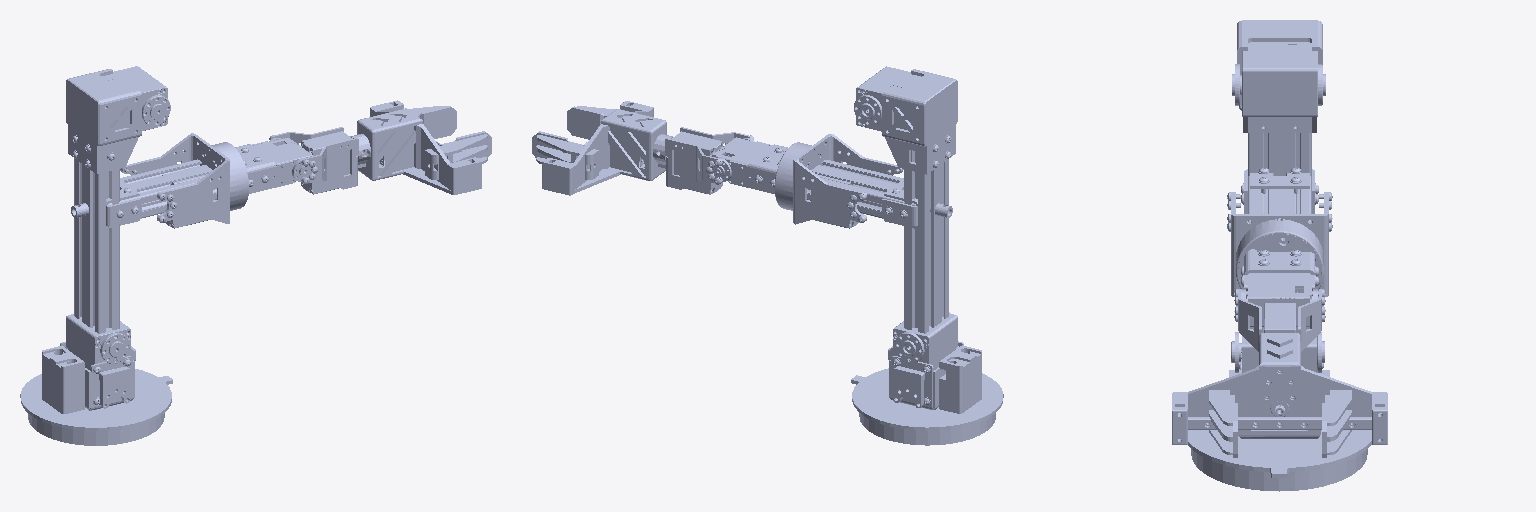
URDF robot description (viola_description):
<?xml version="1.0" encoding="utf-8"?>
<!-- This URDF was automatically created by SolidWorks to URDF Exporter! Originally created by Stephen Brawner (brawner@gmail.com) 
     Commit Version: 1.6.0-4-g7f85cfe  Build Version: 1.6.7995.38578
     For more information, please see http://wiki.ros.org/sw_urdf_exporter -->
<robot
  name="viola_description">
  <!-- 添加虚拟根链接 -->
  <link name="world"/>

  <!-- 添加固定关节 -->
  <joint name="world_to_base" type="fixed">
    <parent link="world"/>
    <child link="base_link"/>
    <origin xyz="0 0 0" rpy="0 0 0"/>
  </joint>
  <link
    name="base_link">
    <inertial>
      <origin
        xyz="-0.0366024394257429 1.02674519677641E-07 0.015277317384285"
        rpy="0 0 0" />
      <mass
        value="0.342452235959815" />
      <inertia
        ixx="0.000285382548760403"
        ixy="6.67655658012279E-10"
        ixz="-2.22357066672083E-05"
        iyy="0.000799966228039242"
        iyz="-1.84525454237363E-10"
        izz="0.000968790303235944" />
    </inertial>
    <visual>
      <origin
        xyz="0 0 0"
        rpy="0 0 0" />
      <geometry>
        <mesh
          filename="package://viola_description/meshes/base_link.STL" />
      </geometry>
      <material
        name="">
        <color
          rgba="0.792156862745098 0.819607843137255 0.933333333333333 1" />
      </material>
    </visual>
    <collision>
      <origin
        xyz="0 0 0"
        rpy="0 0 0" />
      <geometry>
        <mesh
          filename="package://viola_description/meshes/base_link.STL" />
      </geometry>
    </collision>
  </link>
  <link
    name="link1">
    <inertial>
      <origin
        xyz="0.00945929848513673 -1.34956793715097E-05 0.0125260726596105"
        rpy="0 0 0" />
      <mass
        value="0.0144992701953334" />
      <inertia
        ixx="2.20206728759526E-06"
        ixy="-3.39221832582805E-09"
        ixz="-2.3292146278621E-07"
        iyy="3.15721267641349E-06"
        iyz="-1.36887296762194E-11"
        izz="3.90207130365304E-06" />
    </inertial>
    <visual>
      <origin
        xyz="0 0 0"
        rpy="0 0 0" />
      <geometry>
        <mesh
          filename="package://viola_description/meshes/link1.STL" />
      </geometry>
      <material
        name="">
        <color
          rgba="0.792156862745098 0.819607843137255 0.933333333333333 1" />
      </material>
    </visual>
    <collision>
      <origin
        xyz="0 0 0"
        rpy="0 0 0" />
      <geometry>
        <mesh
          filename="package://viola_description/meshes/link1.STL" />
      </geometry>
    </collision>
  </link>
  <joint
    name="joint1"
    type="revolute">
    <origin
      xyz="0 0 0.0657499999998377"
      rpy="0 0 0" />
    <parent
      link="base_link" />
    <child
      link="link1" />
    <axis
      xyz="7.60456271565632E-05 0 -0.999999997108531" />
    <limit
      lower="-2.27"
      upper="2.27"
      effort="100"
      velocity="1" />
  </joint>
  <link
    name="link2">
    <inertial>
      <origin
        xyz="0.114964625129059 -0.00467704143791724 4.16290445967295E-05"
        rpy="0 0 0" />
      <mass
        value="0.0987772903768165" />
      <inertia
        ixx="2.1184876229622E-05"
        ixy="5.53852374713765E-06"
        ixz="-2.84045610394423E-07"
        iyy="0.000167624486496214"
        iyz="1.15621876795967E-07"
        izz="0.00016002189146611" />
    </inertial>
    <visual>
      <origin
        xyz="0 0 0"
        rpy="0 0 0" />
      <geometry>
        <mesh
          filename="package://viola_description/meshes/link2.STL" />
      </geometry>
      <material
        name="">
        <color
          rgba="0.792156862745098 0.819607843137255 0.933333333333333 1" />
      </material>
    </visual>
    <collision>
      <origin
        xyz="0 0 0"
        rpy="0 0 0" />
      <geometry>
        <mesh
          filename="package://viola_description/meshes/link2.STL" />
      </geometry>
    </collision>
  </link>
  <joint
    name="joint2"
    type="revolute">
    <origin
      xyz="0.000816389136979258 0 0.0178942036719373"
      rpy="1.57079665385624 -1.5707963267949 0" />
    <parent
      link="link1" />
    <child
      link="link2" />
    <axis
      xyz="0 0 -0.999999999999946" />
    <limit
      lower="-1.57"
      upper="1.57"
      effort="100"
      velocity="1" />
  </joint>
  <link
    name="link3">
    <inertial>
      <origin
        xyz="0.0307420220015525 -0.0080225139682279 5.97955914480572E-05"
        rpy="0 0 0" />
      <mass
        value="0.0176734436095054" />
      <inertia
        ixx="4.78311450026527E-06"
        ixy="7.02946410418116E-07"
        ixz="9.46781860288867E-15"
        iyy="4.570596511692E-06"
        iyz="-4.73223323817479E-13"
        izz="4.83080271569652E-06" />
    </inertial>
    <visual>
      <origin
        xyz="0 0 0"
        rpy="0 0 0" />
      <geometry>
        <mesh
          filename="package://viola_description/meshes/link3.STL" />
      </geometry>
      <material
        name="">
        <color
          rgba="0.792156862745098 0.819607843137255 0.933333333333333 1" />
      </material>
    </visual>
    <collision>
      <origin
        xyz="0 0 0"
        rpy="0 0 0" />
      <geometry>
        <mesh
          filename="package://viola_description/meshes/link3.STL" />
      </geometry>
    </collision>
  </link>
  <joint
    name="joint3"
    type="revolute">
    <origin
      xyz="0.162199430665324 -0.0426767500837757 0"
      rpy="0 0 -1.5707963267949" />
    <parent
      link="link2" />
    <child
      link="link3" />
    <axis
      xyz="0 0 -1" />
    <limit
      lower="-1.57"
      upper="1.57"
      effort="100"
      velocity="1" />
  </joint>
  <link
    name="link4">
    <inertial>
      <origin
        xyz="-3.73429810663628E-05 -3.34353484130843E-05 -0.0394023804743517"
        rpy="0 0 0" />
      <mass
        value="0.0317772689370715" />
      <inertia
        ixx="5.52051400613132E-06"
        ixy="6.70142362355472E-12"
        ixz="-8.04404621260023E-09"
        iyy="4.24695643927686E-06"
        iyz="-3.3926498965048E-09"
        izz="5.04711704401761E-06" />
    </inertial>
    <visual>
      <origin
        xyz="0 0 0"
        rpy="0 0 0" />
      <geometry>
        <mesh
          filename="package://viola_description/meshes/link4.STL" />
      </geometry>
      <material
        name="">
        <color
          rgba="0.792156862745098 0.819607843137255 0.933333333333333 1" />
      </material>
    </visual>
    <collision>
      <origin
        xyz="0 0 0"
        rpy="0 0 0" />
      <geometry>
        <mesh
          filename="package://viola_description/meshes/link4.STL" />
      </geometry>
    </collision>
  </link>
  <joint
    name="joint4"
    type="revolute">
    <origin
      xyz="0.136105 -0.00132499999999894 0"
      rpy="1.5707963267949 0 1.5707963267949" />
    <parent
      link="link3" />
    <child
      link="link4" />
    <axis
      xyz="0 0 -1" />
    <limit
      lower="-2.27"
      upper="2.27"
      effort="100"
      velocity="1" />
  </joint>
  <link
    name="link5">
    <inertial>
      <origin
        xyz="-0.00907471212229996 -0.0353443496912795 -0.000249999386878841"
        rpy="0 0 0" />
      <mass
        value="0.0153420053398658" />
      <inertia
        ixx="4.51552994788011E-06"
        ixy="-6.95561719240877E-07"
        ixz="7.12586882370268E-14"
        iyy="4.67720718357925E-06"
        iyz="2.88782601757487E-14"
        izz="4.69712760711317E-06" />
    </inertial>
    <visual>
      <origin
        xyz="0 0 0"
        rpy="0 0 0" />
      <geometry>
        <mesh
          filename="package://viola_description/meshes/link5.STL" />
      </geometry>
      <material
        name="">
        <color
          rgba="0.792156862745098 0.819607843137255 0.933333333333333 1" />
      </material>
    </visual>
    <collision>
      <origin
        xyz="0 0 0"
        rpy="0 0 0" />
      <geometry>
        <mesh
          filename="package://viola_description/meshes/link5.STL" />
      </geometry>
    </collision>
  </link>
  <joint
    name="joint5"
    type="revolute">
    <origin
      xyz="0 0 0"
      rpy="-1.57079632686333 0 0" />
    <parent
      link="link4" />
    <child
      link="link5" />
    <axis
      xyz="0 0 -1" />
    <limit
      lower="-1.57"
      upper="1.57"
      effort="100"
      velocity="1" />
  </joint>
  <link
    name="link6">
    <inertial>
      <origin
        xyz="3.11451987721628E-06 0.00376646242582662 -0.0665098429300616"
        rpy="0 0 0" />
      <mass
        value="0.0525962732183853" />
      <inertia
        ixx="2.7290758390216E-05"
        ixy="-5.11417784182148E-08"
        ixz="-5.39035011630235E-08"
        iyy="8.14239091644694E-05"
        iyz="-3.75607728816935E-06"
        izz="7.02344937987567E-05" />
    </inertial>
    <visual>
      <origin
        xyz="0 0 0"
        rpy="0 0 0" />
      <geometry>
        <mesh
          filename="package://viola_description/meshes/link6.STL" />
      </geometry>
      <material
        name="">
        <color
          rgba="0.792156862745098 0.819607843137255 0.933333333333333 1" />
      </material>
    </visual>
    <collision>
      <origin
        xyz="0 0 0"
        rpy="0 0 0" />
      <geometry>
        <mesh
          filename="package://viola_description/meshes/link6.STL" />
      </geometry>
    </collision>
  </link>
  <joint
    name="joint6"
    type="revolute">
    <origin
      xyz="-0.00482250000000067 -0.170649999999999 0"
      rpy="1.5707963267949 -1.5707963267949 0" />
    <parent
      link="link5" />
    <child
      link="link6" />
    <axis
      xyz="0 0 -1" />
    <limit
      lower="-2.27"
      upper="2.27"
      effort="100"
      velocity="1" />
  </joint>
  <link name="calib_connection_link"/>
  <joint
    name="link6_to_calib_connection_joint"
    type="fixed">
    <origin
      xyz="0 -0.022 -0.054"
      rpy="0 0 0" />
    <parent
      link="link6" />
    <child
      link="calib_connection_link" />
  </joint>
  <link
    name="link7_left">
    <inertial>
      <origin
        xyz="-2.75111773632153E-05 -0.0166499696743121 0.040371259206279"
        rpy="0 0 0" />
      <mass
        value="0.0093640759491376" />
      <inertia
        ixx="1.42325173509405E-06"
        ixy="3.07744473263828E-11"
        ixz="1.54466899291748E-12"
        iyy="6.7892690386922E-07"
        iyz="2.04200398046579E-07"
        izz="1.72127779881948E-06" />
    </inertial>
    <visual>
      <origin
        xyz="0 0 0"
        rpy="0 0 0" />
      <geometry>
        <mesh
          filename="package://viola_description/meshes/link7_left.STL" />
      </geometry>
      <material
        name="">
        <color
          rgba="0.792156862745098 0.819607843137255 0.933333333333333 1" />
      </material>
    </visual>
    <collision>
      <origin
        xyz="0 0 0"
        rpy="0 0 0" />
      <geometry>
        <mesh
          filename="package://viola_description/meshes/link7_left.STL" />
      </geometry>
    </collision>
  </link>
  <joint
    name="joint7_left"
    type="prismatic">
    <origin
      xyz="0 0.0100900000000006 0"
      rpy="1.5707963267949 0 -1.5707963267949" />
    <parent
      link="link6" />
    <child
      link="link7_left" />
    <axis
      xyz="0 0 1" />
    <limit
      lower="-0.03"
      upper="0"
      effort="5"
      velocity="3.14" />
  </joint>
  <link
    name="link7_right">
    <inertial>
      <origin
        xyz="-2.75111773632708E-05 -0.0166499696743121 -0.0403212592062332"
        rpy="0 0 0" />
      <mass
        value="0.0093640759491376" />
      <inertia
        ixx="1.42325173509405E-06"
        ixy="3.07744473261268E-11"
        ixz="-1.54466899246648E-12"
        iyy="6.78926903869219E-07"
        iyz="-2.0420039804658E-07"
        izz="1.72127779881948E-06" />
    </inertial>
    <visual>
      <origin
        xyz="0 0 0"
        rpy="0 0 0" />
      <geometry>
        <mesh
          filename="package://viola_description/meshes/link7_right.STL" />
      </geometry>
      <material
        name="">
        <color
          rgba="0.792156862745098 0.819607843137255 0.933333333333333 1" />
      </material>
    </visual>
    <collision>
      <origin
        xyz="0 0 0"
        rpy="0 0 0" />
      <geometry>
        <mesh
          filename="package://viola_description/meshes/link7_right.STL" />
      </geometry>
    </collision>
  </link>
  <joint
    name="joint7_right"
    type="prismatic">
    <origin
      xyz="0 0.0100900000000006 0"
      rpy="1.5707963267949 0 -1.5707963267949" />
    <parent
      link="link6" />
    <child
      link="link7_right" />
    <axis
      xyz="0 0 -1" />
    <limit
      lower="-3.14"
      upper="3.14"
      effort="5"
      velocity="3.14" />
    <mimic joint="joint7_left" />
  </joint>
</robot>

--- What the picture shows (computed from the rendered views, not written in the file) ---
Views: 3 orthographic renders of the robot side by side, from view 1: azimuth 30°, elevation 25°; view 2: azimuth 150°, elevation 25°; view 3: azimuth 270°, elevation 25°.
Model viola_description with 11 links and 10 joints (6 revolute, 2 prismatic, 2 fixed), rooted at world, posed all joints at 0.
Links seen in each view (by area): view 1: link2, link1, link6, link3, link4, link5, link7_right, link7_left; view 2: link2, link1, link6, link4, link3, link5, link7_left, link7_right; view 3: link2, link6, link1, link4, link3, link5, link7_left, link7_right.
Link boxes in pixels (x1,y1,x2,y2): link2: (66,66,170,408); link1: (20,314,172,445); link6: (350,100,481,194); link3: (120,133,248,228); link4: (71,138,312,227); link5: (269,127,358,194); link7_right: (425,131,491,179); link7_left: (408,106,456,138); link2: (854,66,957,407); link1: (851,312,1003,445); link6: (542,101,672,195); link4: (712,137,952,228); link3: (775,134,903,228); link5: (665,127,754,194); link7_left: (532,131,598,179); link7_right: (567,106,615,139); link2: (1229,20,1329,376); link6: (1172,333,1387,444); link1: (1188,332,1371,491); link4: (1241,167,1318,326); link3: (1227,192,1332,296); link5: (1234,289,1325,351); link7_left: (1322,390,1351,457); link7_right: (1209,390,1237,457).
Size in the robot's own frame: 0.411 by 0.135 by 0.294 metres.
Meshes: 9 distinct files referenced, 8 mesh visuals loaded (8 binary STL); not drawn: 1 (reference not matched to a file when rendering).
